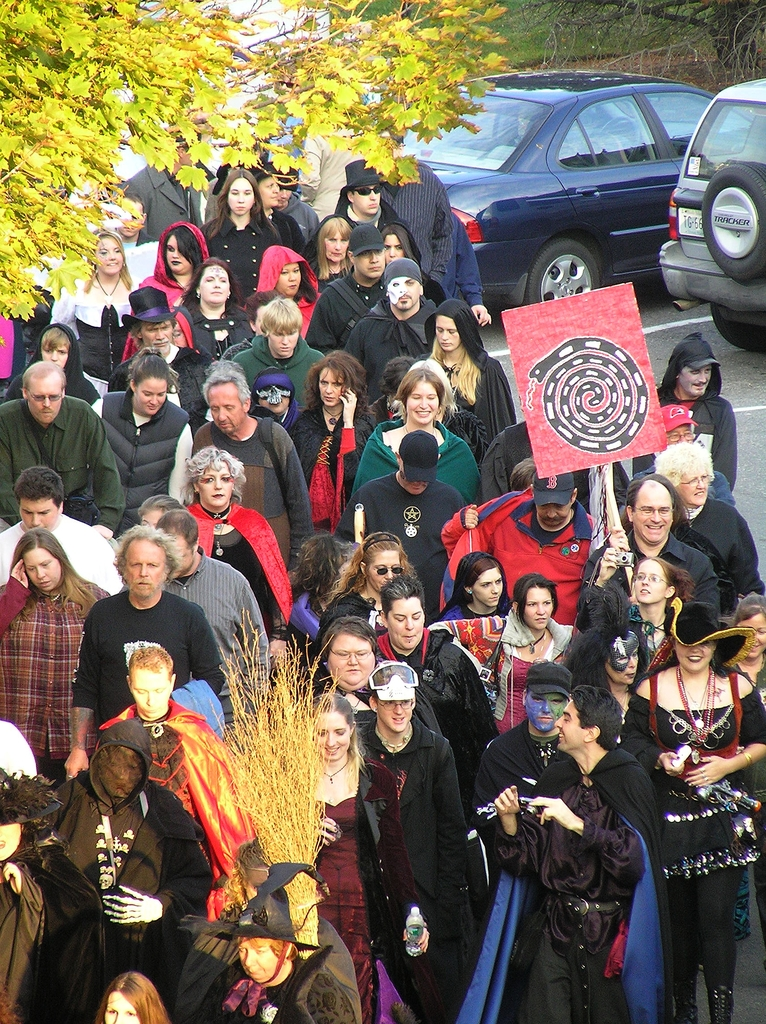cars: (413, 73, 722, 306), (652, 81, 764, 348)
